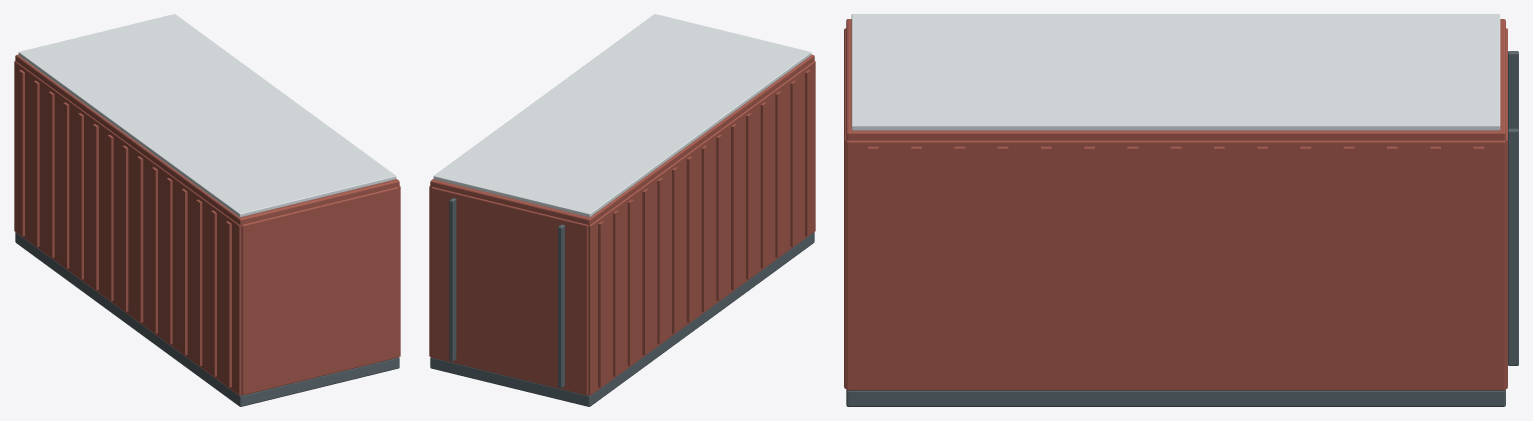
The model's file is container_red.glb.
3 renders of one model, left to right at view 1: azimuth 30°, elevation 25°; view 2: azimuth 150°, elevation 25°; view 3: azimuth 270°, elevation 25°, orthographic. The views are drawn at different scales.
Visible parts, largest first — view 1: container_red; view 2: container_red; view 3: container_red.
Boxes of the visible parts, x1=… form: container_red: x1=14, y1=14, x2=400, y2=406; container_red: x1=429, y1=14, x2=815, y2=406; container_red: x1=844, y1=14, x2=1518, y2=406.
Size of the model in its own units: 2.61 by 2.87 by 6.24.
